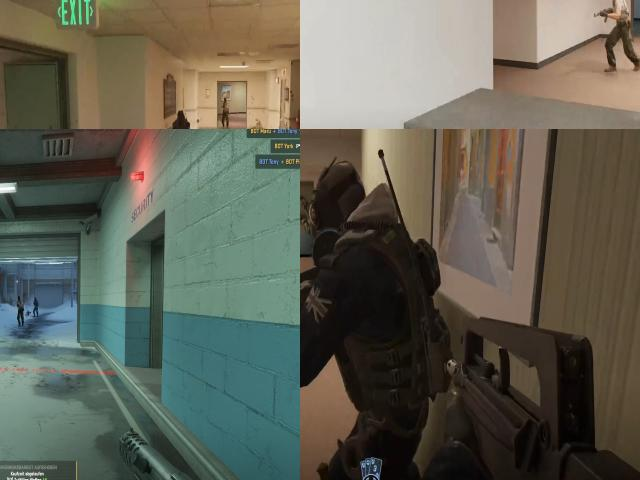CT: (304, 129, 431, 472), (172, 109, 190, 129), (33, 297, 39, 317)
CT-Head: (304, 153, 373, 266), (175, 109, 186, 129), (34, 297, 37, 302)
T: (605, 0, 633, 43), (16, 295, 24, 327), (222, 97, 229, 126)
T-Head: (223, 98, 227, 104), (18, 296, 22, 302)
